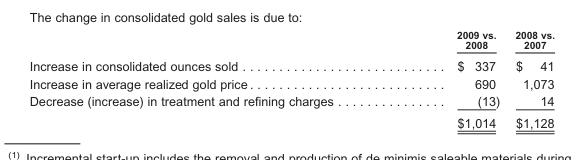table: (28, 28, 554, 129)
table column: (28, 28, 394, 129), (394, 28, 506, 129), (506, 28, 554, 129)
table column header: (28, 28, 554, 54)
table row: (28, 28, 554, 54), (28, 54, 554, 74), (28, 91, 554, 111), (28, 111, 554, 129), (28, 74, 554, 91)
